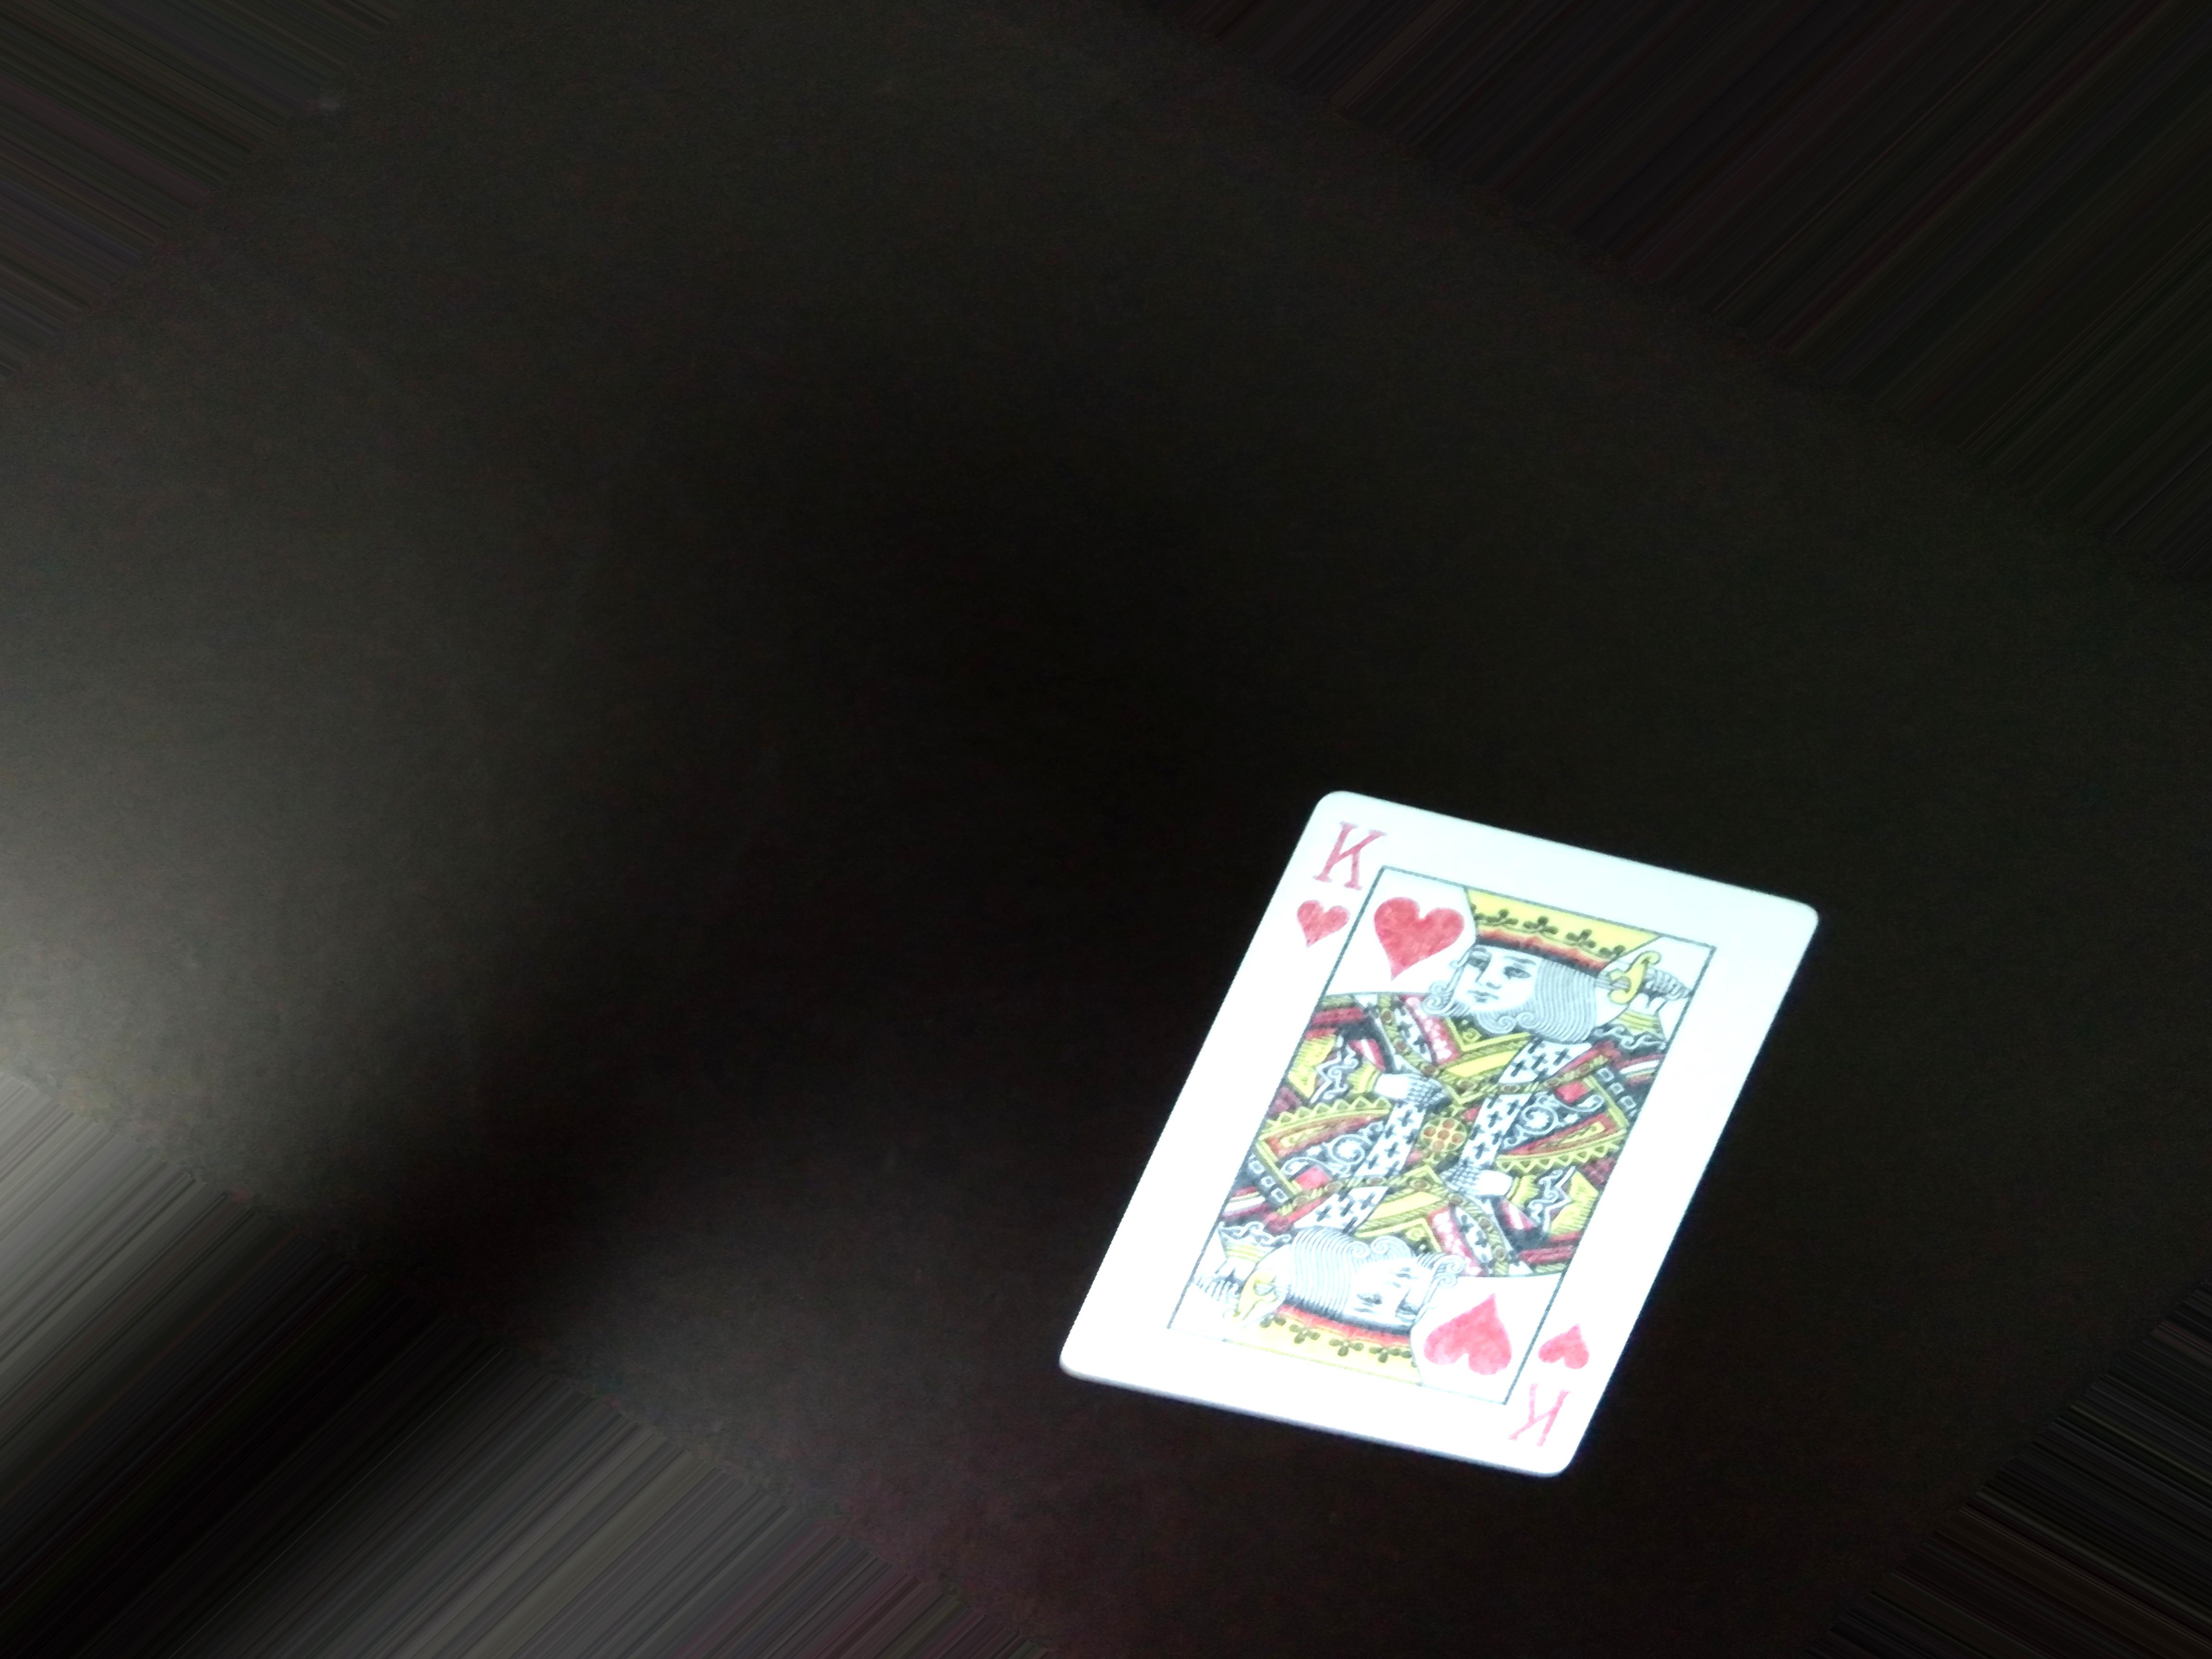KH: (1287, 781, 1381, 957)
